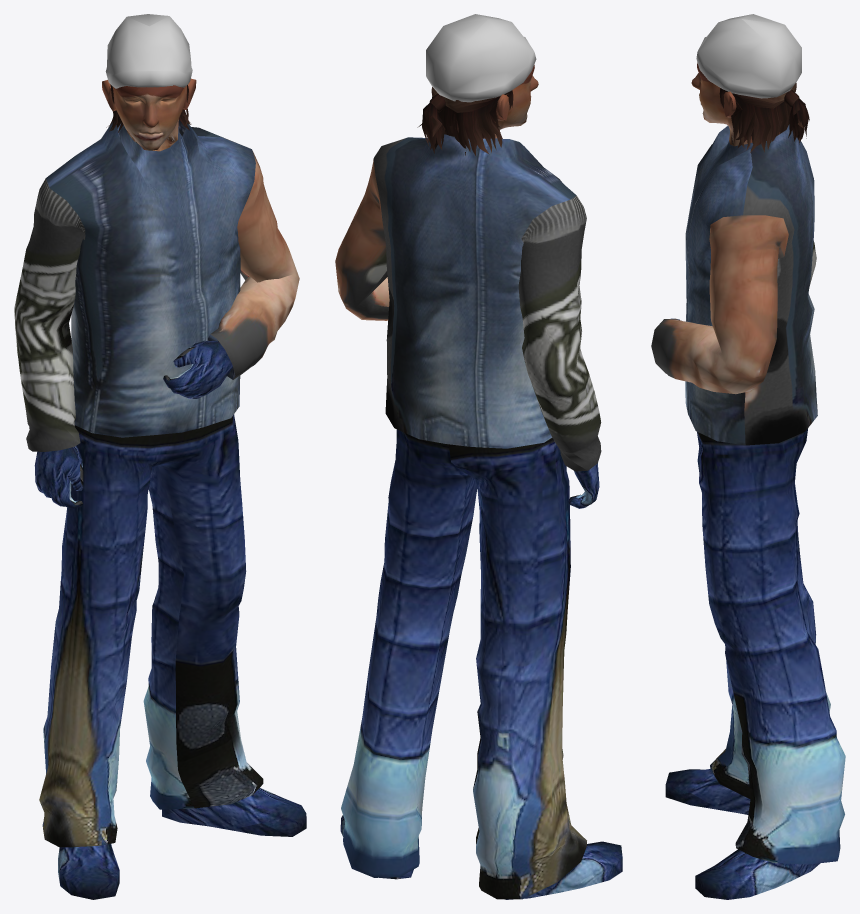
Rendered from male.dae.
3 views of the same model, side by side, from view 1: azimuth 30°, elevation 25°; view 2: azimuth 150°, elevation 25°; view 3: azimuth 270°, elevation 25° (orthographic). The views are drawn at different scales.
Parts seen in each view (by area): view 1: obj1221Obj; view 2: obj1221Obj; view 3: obj1221Obj.
Part boxes in pixels (bbox=[...]): obj1221Obj: bbox=[14, 14, 306, 899]; obj1221Obj: bbox=[335, 14, 622, 899]; obj1221Obj: bbox=[651, 14, 845, 899].
Size of the model in its own units: 61.02 by 40.36 by 186.
